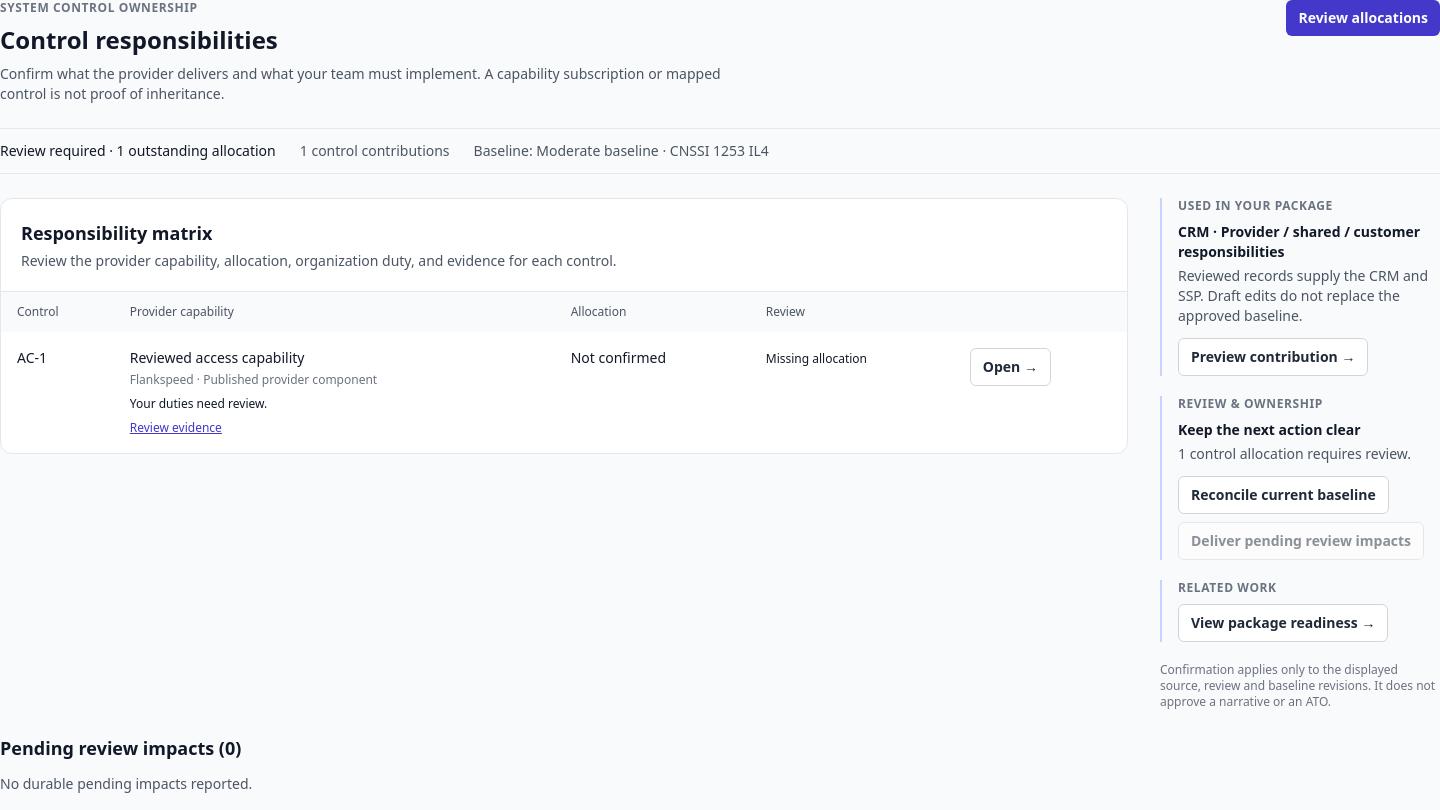
Test: system subscription responsibility review › defaults inherited allocations to the authoritative provider profile name
Click the button with aria-label "Open AC-1 responsibility" at coordinates (1010, 367), box [970,348,1051,386]
(page scrolled)
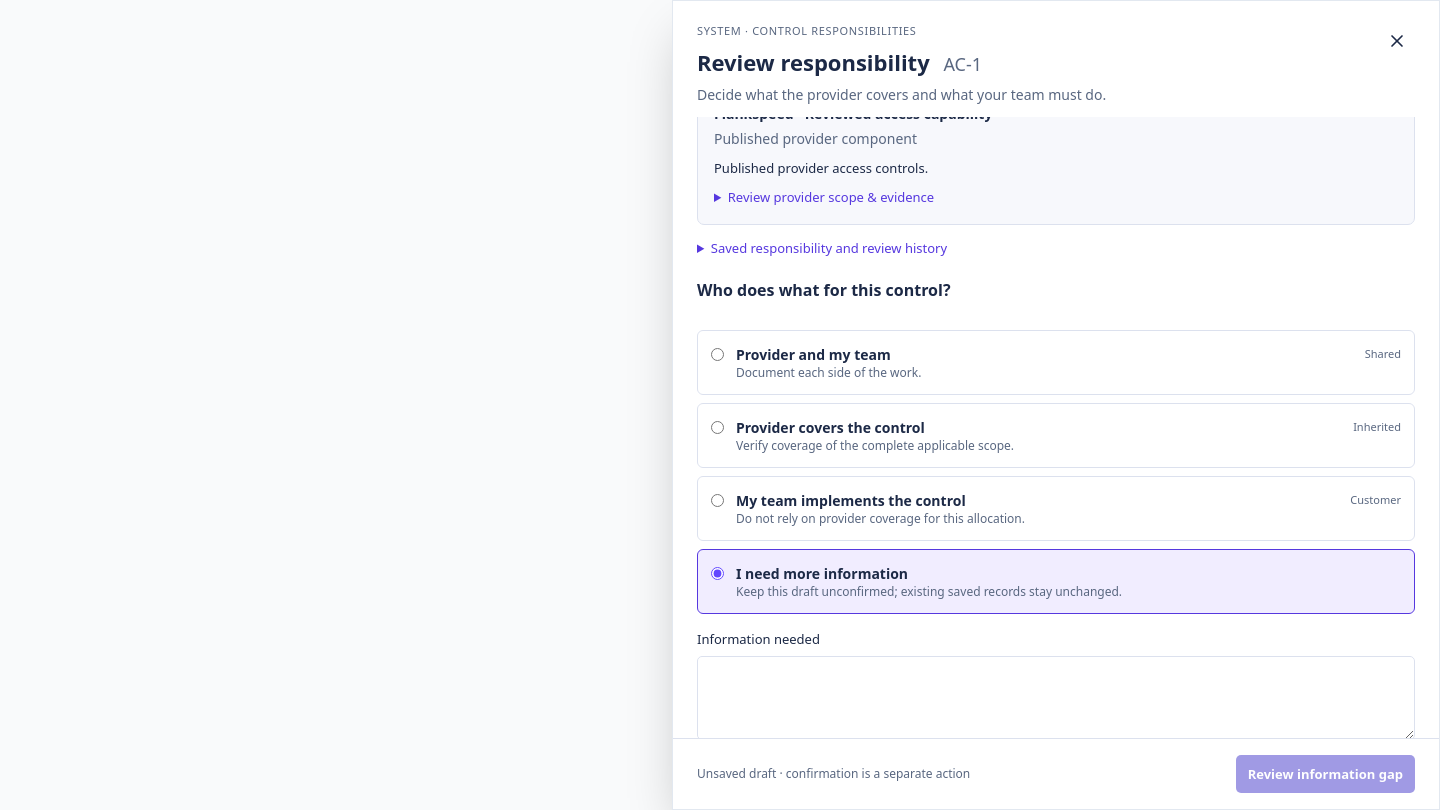
Click the radio button labelled "Provider covers the control" at coordinates (718, 428), box [711,421,724,434]
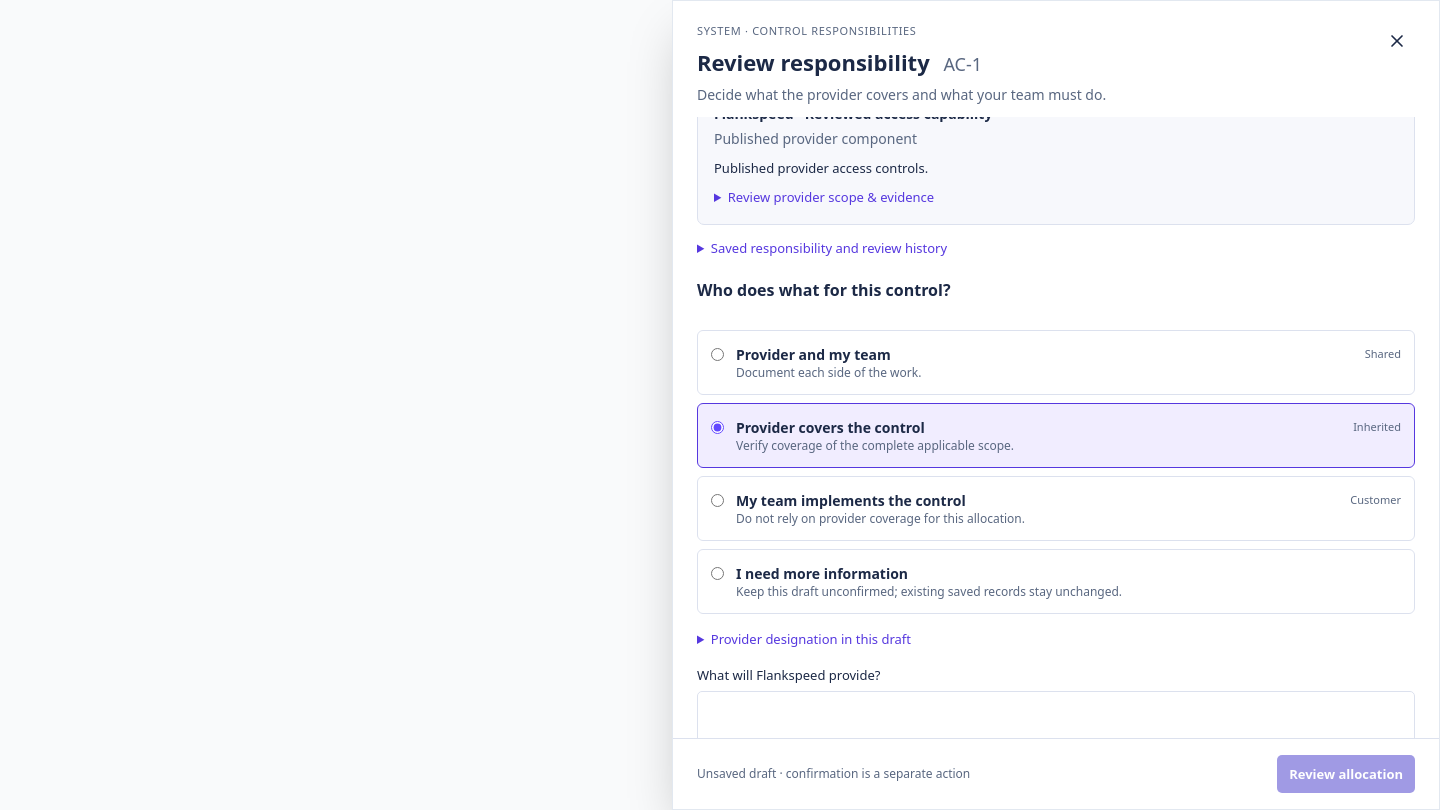
Expected: the element named "Provider for AC-1" holds "Flankspeed", [711,630,911,648]
